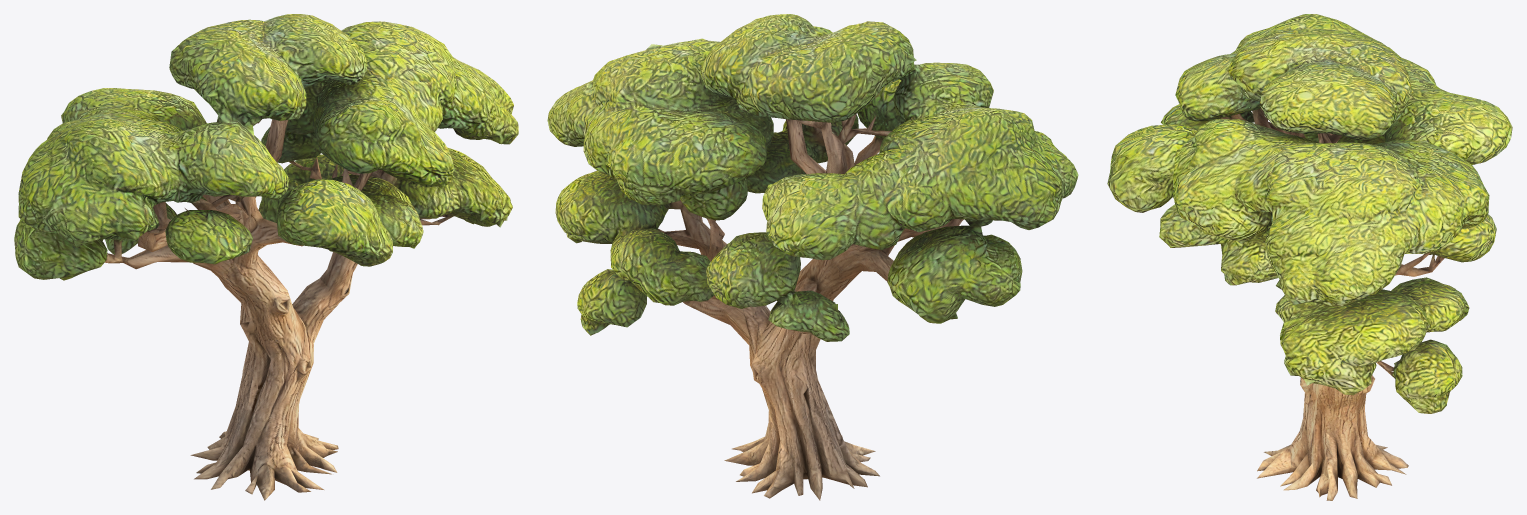
Rendered from base_basic_shaded.glb.
The picture shows the model from 3 angles, left to right: view 1: azimuth 30°, elevation 25°; view 2: azimuth 150°, elevation 25°; view 3: azimuth 270°, elevation 25°; orthographic projection. The views are drawn at different scales.
Parts seen in each view (by area): view 1: model; view 2: model; view 3: model.
Part boxes in pixels (x1,y1,x2,y2): model: [14, 14, 518, 500]; model: [547, 14, 1078, 500]; model: [1107, 14, 1512, 500].
Bounding box in the file's own units: 1.89 × 1.6 × 1.41.
1 material, 1 textured.
